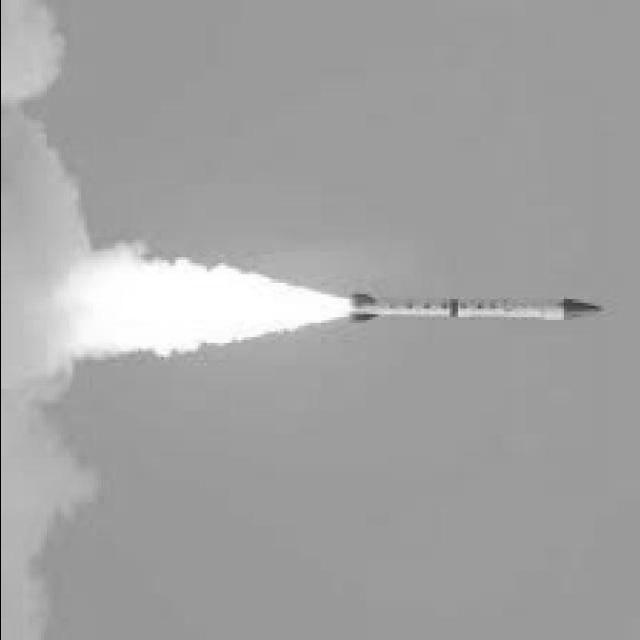missile: (347, 293, 603, 325)
